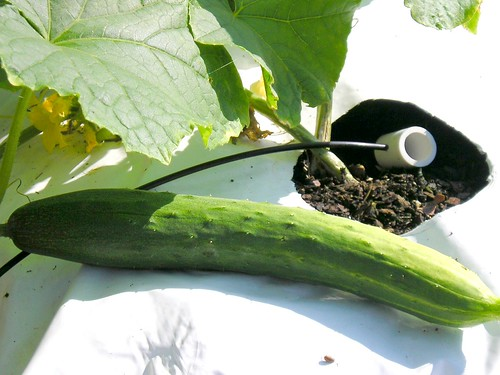cucumber: (2, 189, 499, 327)
